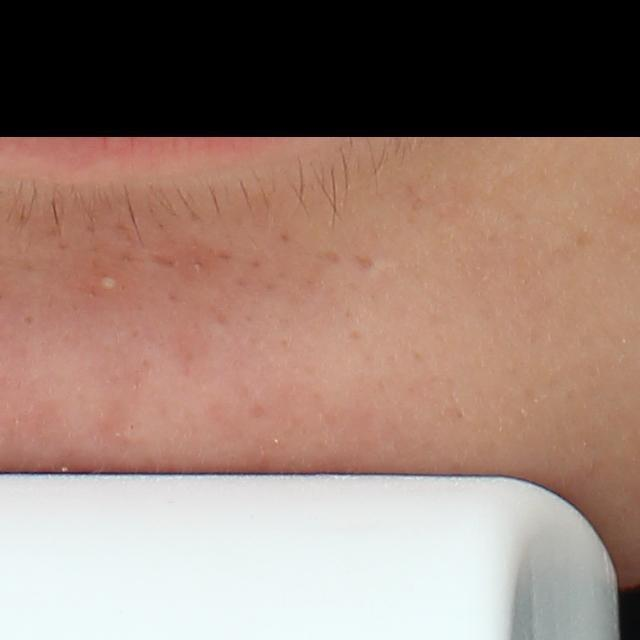atrophic_scar: (352, 253, 377, 270)
pustule: (96, 273, 121, 296)
